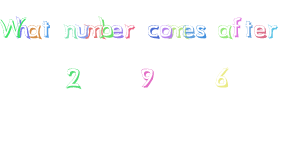2: (65, 66, 82, 90)
6: (214, 66, 231, 87)
9: (139, 65, 155, 89)
W: (1, 17, 20, 40)
a: (27, 22, 42, 40), (217, 23, 232, 40)
b: (99, 14, 114, 39)
c: (146, 23, 160, 40)
e: (253, 23, 267, 40), (111, 23, 124, 39), (182, 23, 195, 39)
f: (231, 16, 243, 38)
h: (15, 15, 30, 39)
m: (169, 22, 186, 40), (85, 23, 103, 39)
n: (62, 23, 76, 39)
o: (159, 23, 172, 39)
r: (267, 22, 279, 40), (124, 23, 136, 39)
s: (195, 23, 209, 40)
t: (41, 19, 51, 39), (243, 19, 253, 38)
u: (75, 23, 89, 39)
